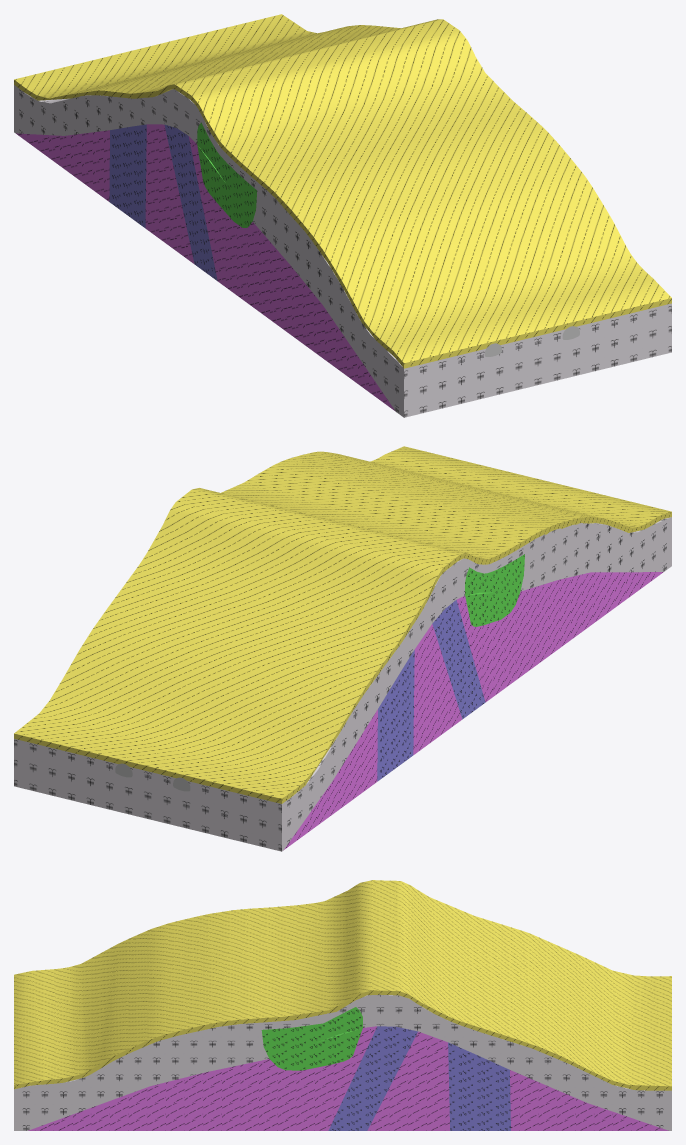
Rendered from MYS2.obj.
3 renders of one model, top to bottom at view 1: azimuth 30°, elevation 25°; view 2: azimuth 150°, elevation 25°; view 3: azimuth 270°, elevation 25°, orthographic. The views are drawn at different scales.
Visible parts, largest first — view 1: 3, 1, 0, fractures, 2, hole; view 2: 3, 1, 0, fractures, 2, hole; view 3: 3, 0, 1, fractures, 2, hole.
Boxes of the visible parts, bbox=[...] form: 3: bbox=[14, 14, 671, 368]; 1: bbox=[14, 93, 671, 417]; 0: bbox=[16, 124, 395, 411]; fractures: bbox=[109, 124, 217, 280]; 2: bbox=[14, 85, 671, 376]; hole: bbox=[197, 122, 257, 227]; 3: bbox=[14, 446, 671, 803]; 1: bbox=[14, 525, 671, 851]; 0: bbox=[283, 572, 663, 850]; fractures: bbox=[377, 600, 485, 781]; 2: bbox=[14, 517, 671, 812]; hole: bbox=[465, 554, 524, 626]; 3: bbox=[14, 880, 671, 1090]; 0: bbox=[28, 1026, 668, 1130]; 1: bbox=[14, 1002, 671, 1130]; fractures: bbox=[328, 1026, 510, 1130]; 2: bbox=[14, 994, 671, 1098]; hole: bbox=[261, 1007, 362, 1070].
Size of the model in its own units: 210 by 125 by 530.
Materials: 7 (6 with a texture image).
